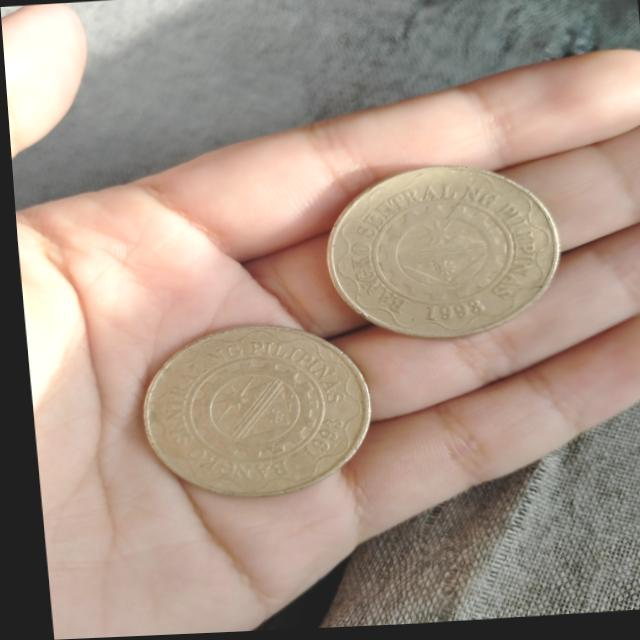5_Old_Back: (116, 319, 373, 500), (314, 160, 566, 343)
